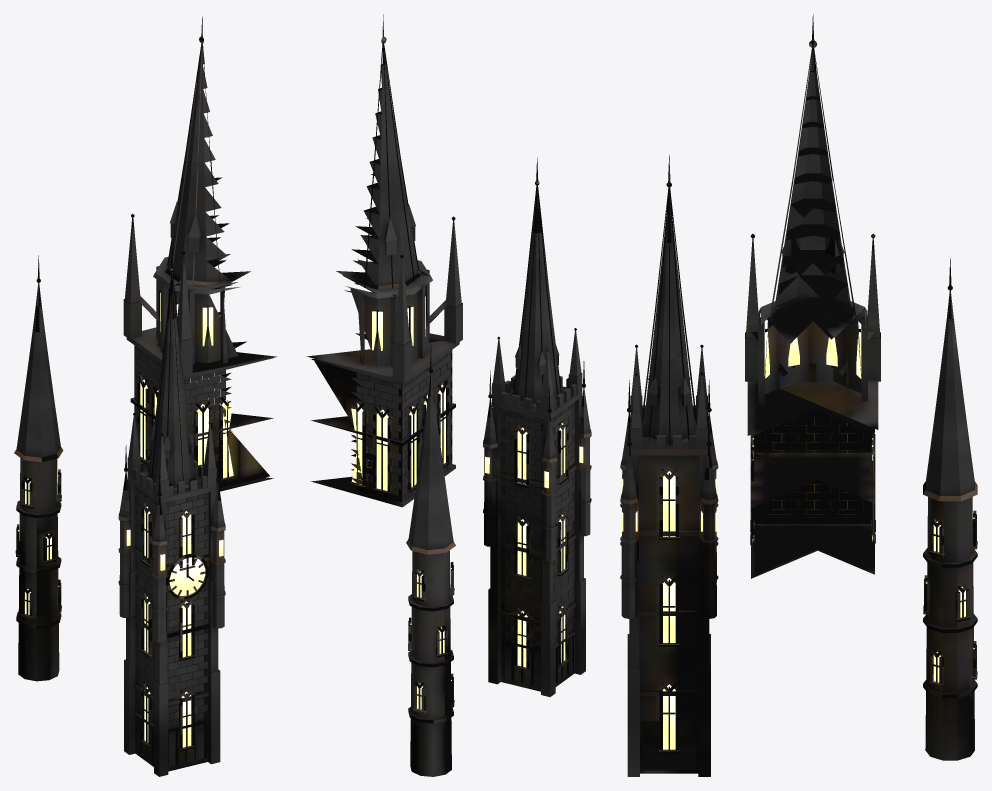
Rendered from gothic_towers-west-GI.glb.
The picture shows the model from 3 angles, left to right: view 1: azimuth 30°, elevation 25°; view 2: azimuth 150°, elevation 25°; view 3: azimuth 270°, elevation 25°; orthographic projection. The views are drawn at different scales.
Visible parts, largest first — view 1: main.001, glow.001; view 2: main.001, glow.001; view 3: main.001, glow.001.
Boxes of the visible parts, bbox=[...] form: main.001: bbox=[14, 16, 277, 776]; glow.001: bbox=[18, 292, 233, 747]; main.001: bbox=[307, 14, 591, 776]; glow.001: bbox=[351, 296, 583, 709]; main.001: bbox=[620, 14, 977, 776]; glow.001: bbox=[621, 331, 974, 749].
Bounding box in the file's own units: 18.33 × 67.4 × 27.34.
Materials: 3 (1 with a texture image).
